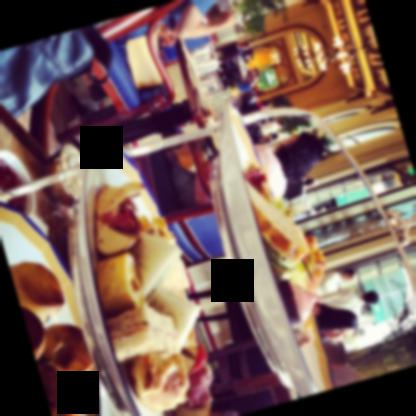handbag: (0, 28, 92, 121)
